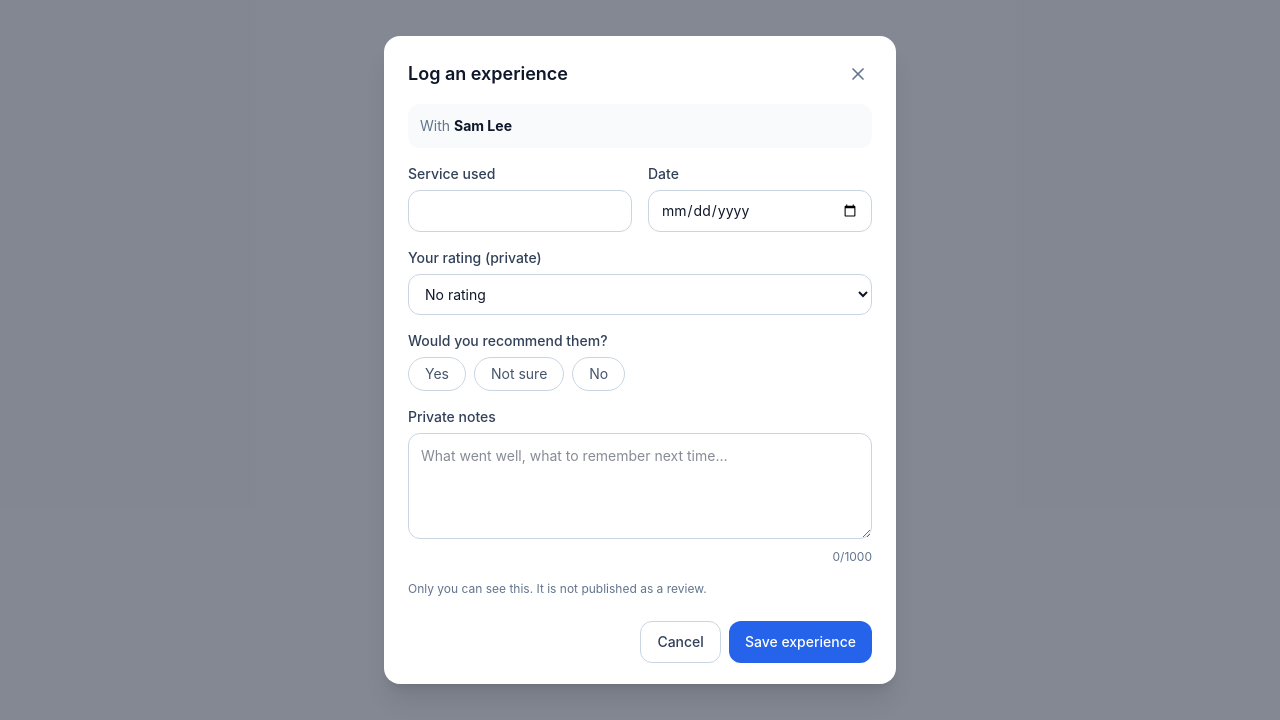
Test: experience form: required fields and a future date are rejected before the API call
The image size is (1280, 720).
Later steps or results of the test are not shown.
Step 1. Click the button "Save experience" → (800,642), box x1=729 y1=621 x2=872 y2=663
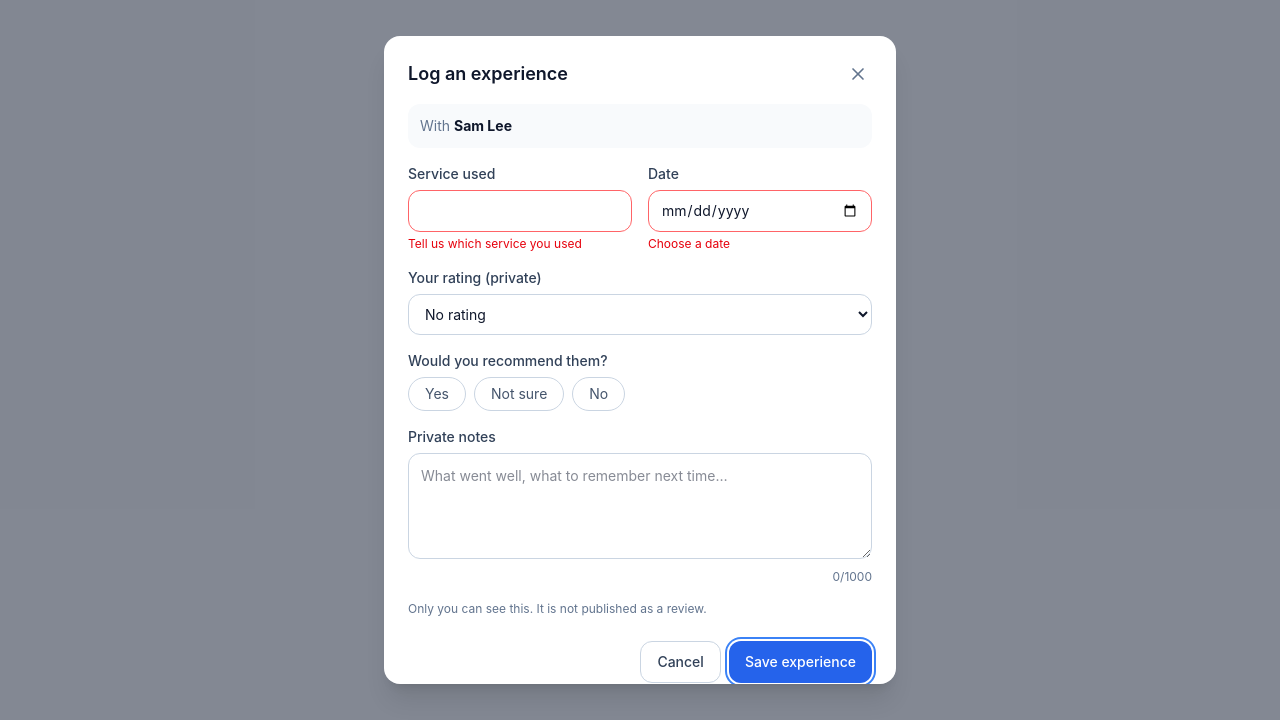
Check: the text "Tell us which service you used" is shown, box x1=408 y1=236 x2=582 y2=251
Check: the text "Choose a date" is shown, box x1=648 y1=236 x2=730 y2=251
Step 2. Type "Refinancing" into the field labelled "Service used" → (520,211), box x1=408 y1=190 x2=632 y2=232
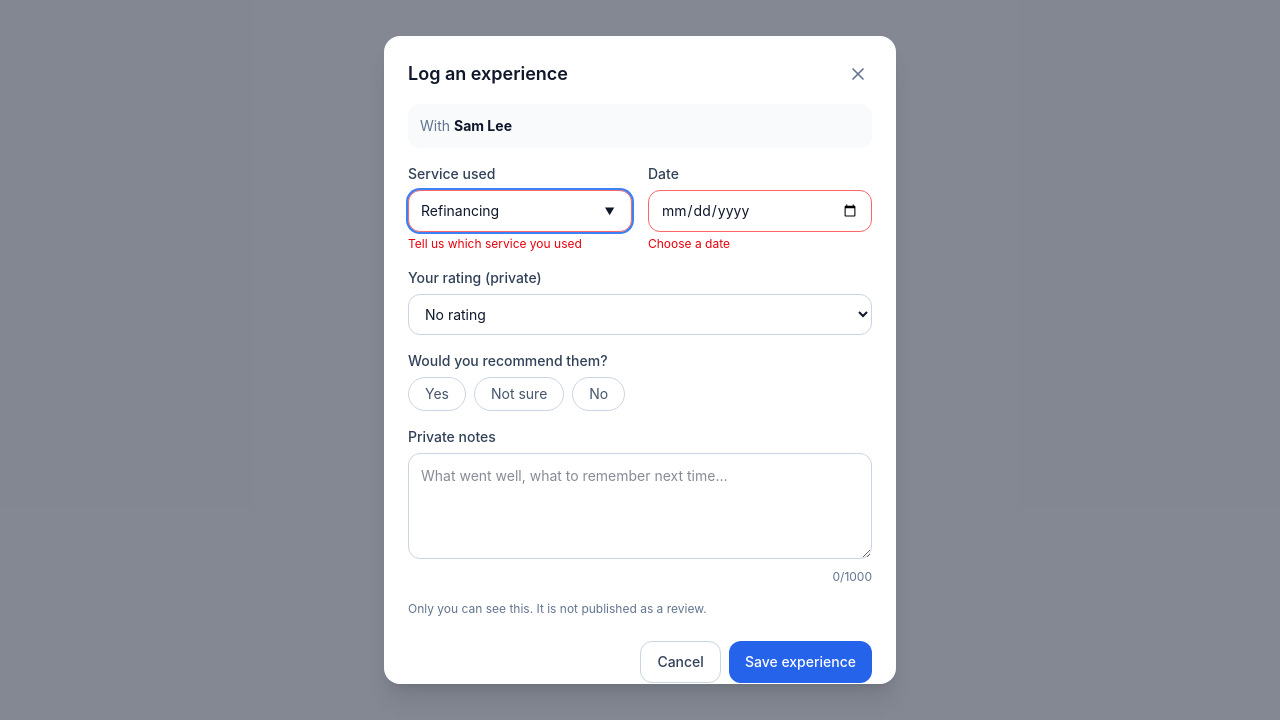
Step 3. Type "2099-01-01" into the date field labelled "Date" → (760,211), box x1=648 y1=190 x2=872 y2=232
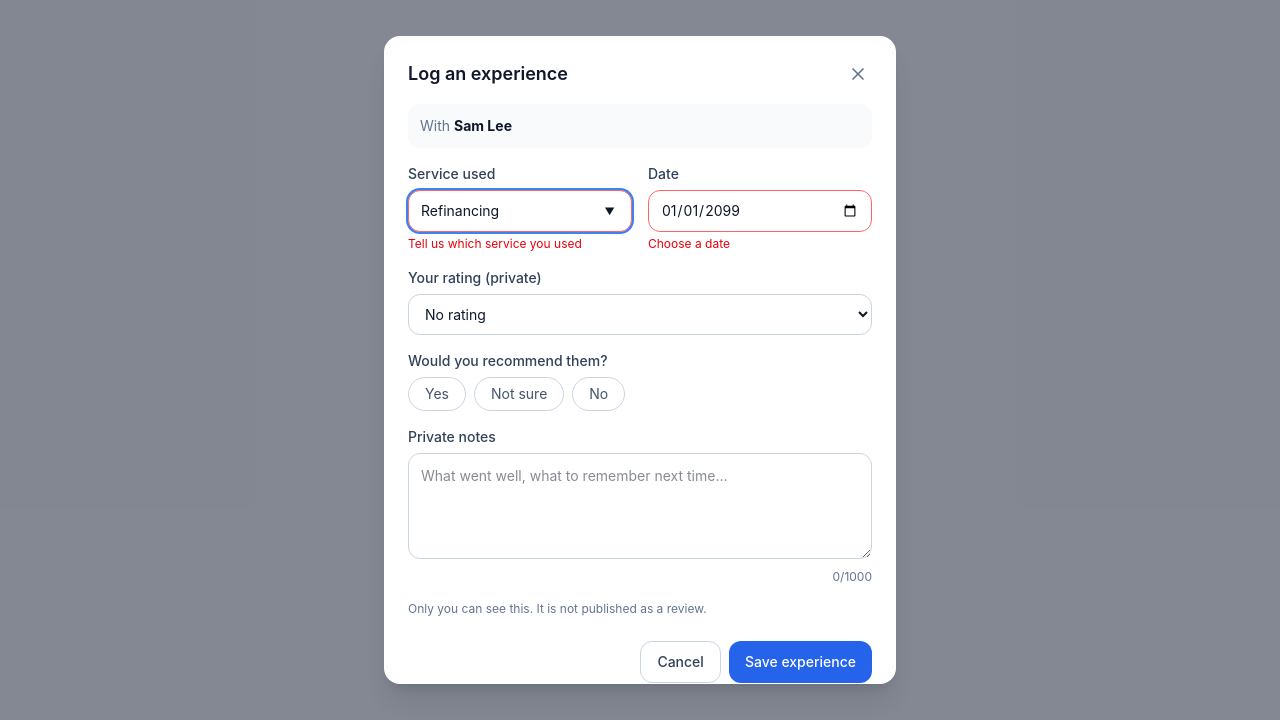
Step 4. Click the button "Save experience" → (800,662), box x1=729 y1=641 x2=872 y2=683
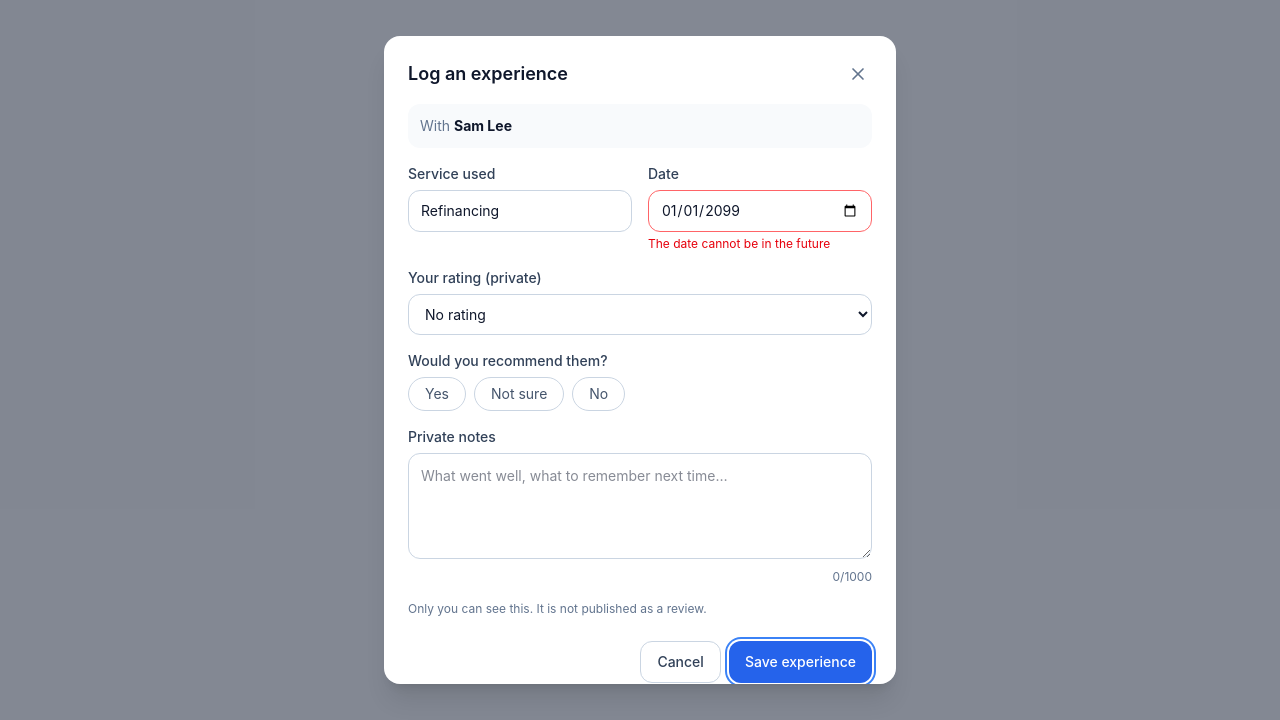
Check: the text "The date cannot be in the future" is shown, box x1=648 y1=236 x2=830 y2=251
